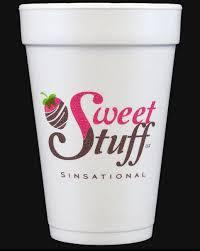Plastic cup: (9, 3, 197, 251)
